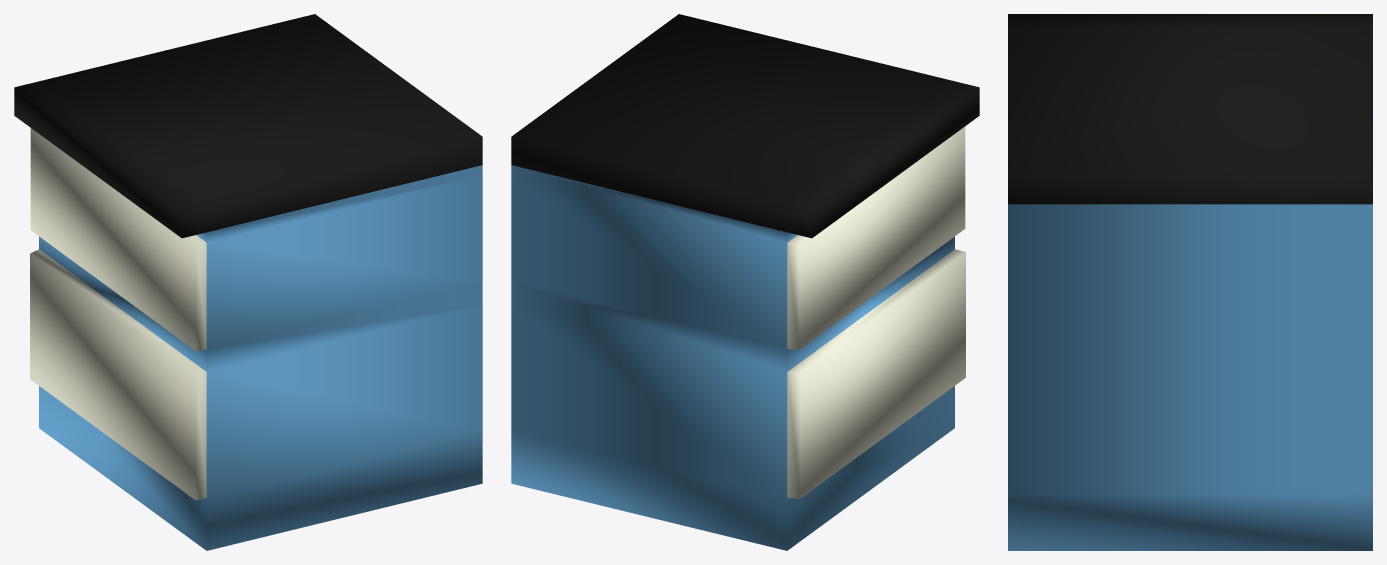
The model's file is KitchenCupboard.fbx.
3 views of the same model, side by side, from view 1: azimuth 30°, elevation 25°; view 2: azimuth 150°, elevation 25°; view 3: azimuth 270°, elevation 25° (orthographic). The views are drawn at different scales.
Parts seen in each view (by area): view 1: Cube.8175; view 2: Cube.8175; view 3: Cube.8175.
Part boxes in pixels (left/top/right/bottom): Cube.8175: left=14, top=14, right=482, bottom=550; Cube.8175: left=511, top=14, right=979, bottom=550; Cube.8175: left=1008, top=14, right=1372, bottom=550.
Bounding box in the file's own units: 109 × 120 × 105.
1 material, 1 textured.
